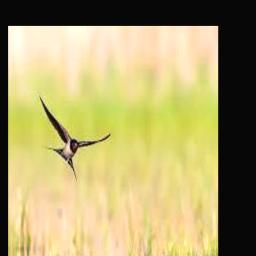Swallow: (40, 96, 112, 177)
